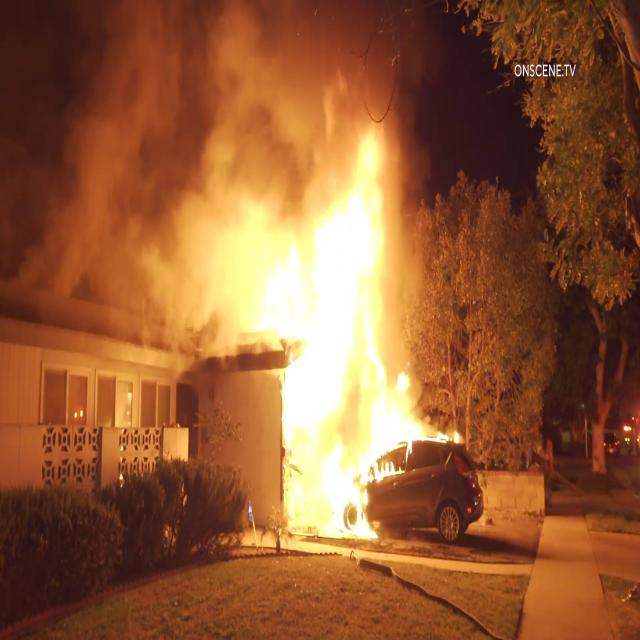fire: (265, 104, 386, 529), (228, 188, 298, 329), (390, 320, 424, 447)
smoke: (4, 3, 220, 318), (0, 0, 262, 183), (222, 3, 392, 69)
